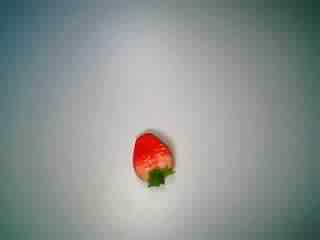strawberry: (118, 127, 184, 193)
